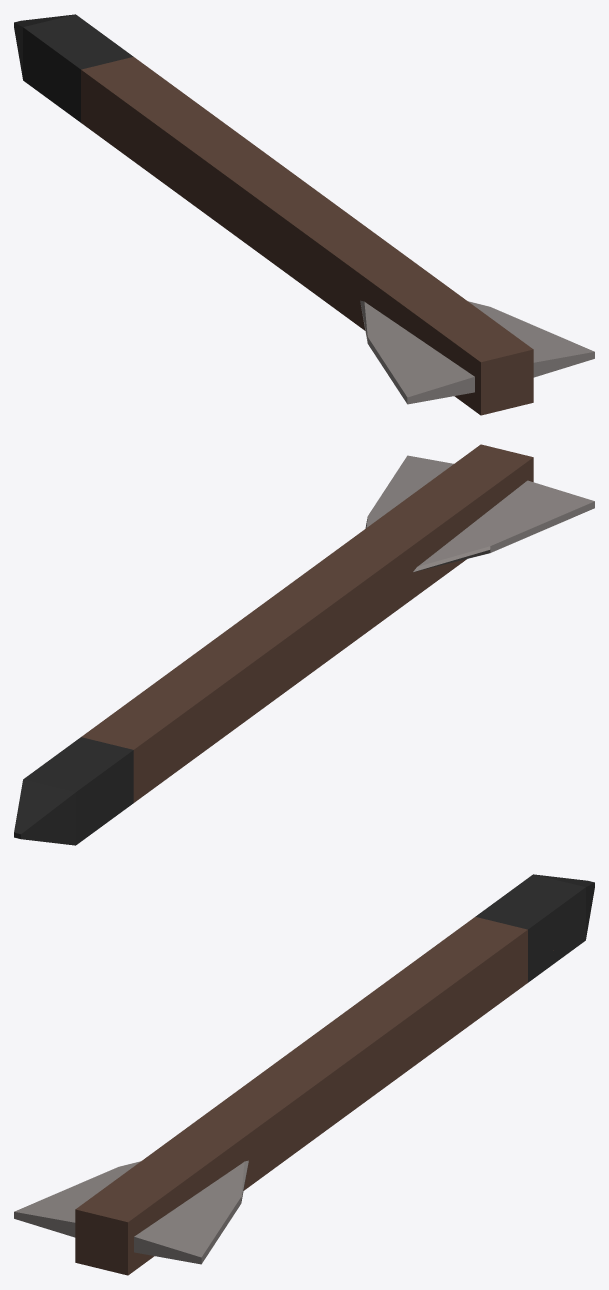
Rendered from Arrow.fbx.
3 renders of one model, top to bottom at view 1: azimuth 30°, elevation 25°; view 2: azimuth 150°, elevation 25°; view 3: azimuth 330°, elevation 25°, orthographic.
Visible parts, largest first — view 1: Arrow; view 2: Arrow; view 3: Arrow.
Boxes of the visible parts, box(x1,y1,x2,y2) form: Arrow: box(14, 14, 594, 415); Arrow: box(14, 444, 594, 845); Arrow: box(14, 874, 594, 1275).
Bounding box in the file's own units: 24.68 × 112 × 6.71.
